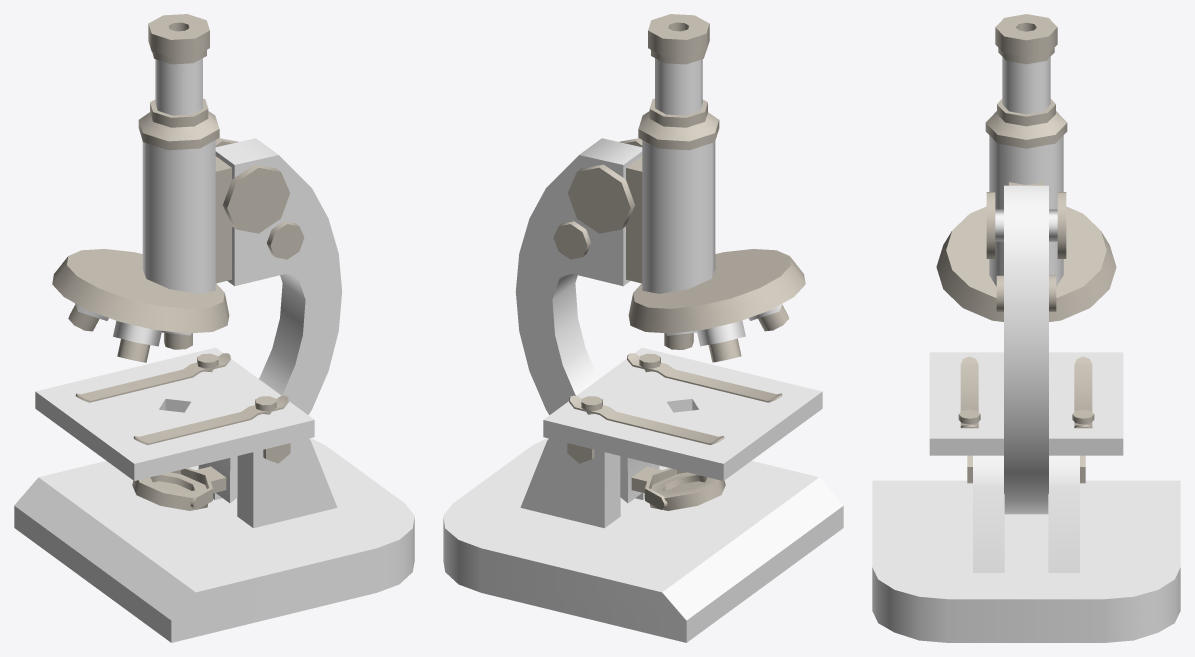
The model's file is microscopefinal.glb.
3 views of the same model, side by side, from view 1: azimuth 30°, elevation 25°; view 2: azimuth 150°, elevation 25°; view 3: azimuth 270°, elevation 25° (orthographic). The views are drawn at different scales.
Visible parts, largest first — view 1: microscope.002; view 2: microscope.002; view 3: microscope.002.
Boxes of the visible parts, bbox=[...] form: microscope.002: bbox=[14, 14, 414, 642]; microscope.002: bbox=[443, 14, 843, 642]; microscope.002: bbox=[872, 14, 1180, 642].
Size of the model in its own units: 0.2173 by 0.3703 by 0.1964.
1 material, 1 textured.
